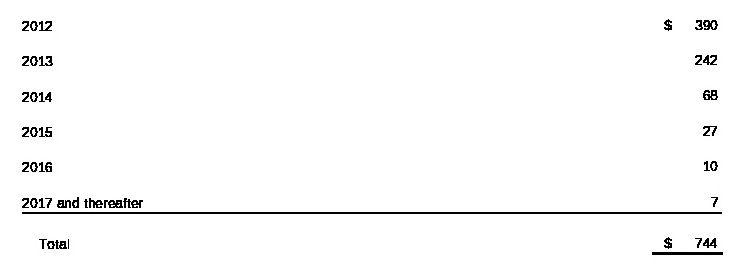table: (0, 0, 741, 272)
